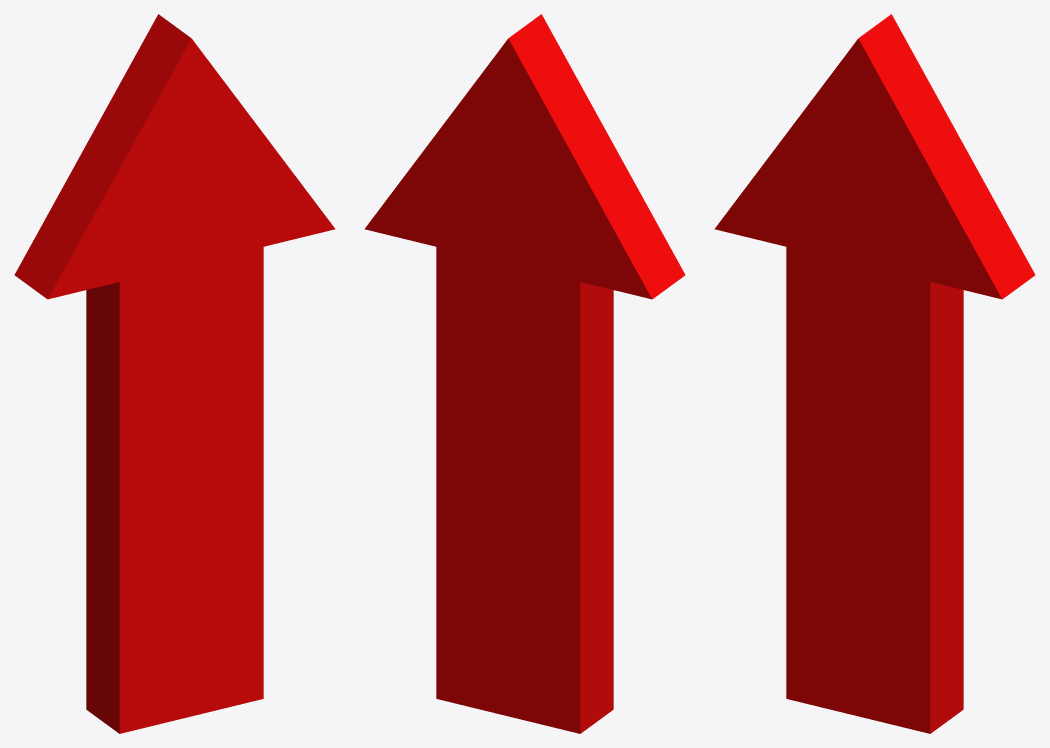
File: arrow.fbx
The picture shows the model from 3 angles, left to right: view 1: azimuth 30°, elevation 25°; view 2: azimuth 150°, elevation 25°; view 3: azimuth 330°, elevation 25°; orthographic projection.
Parts seen in each view (by area): view 1: Group1; view 2: Group1; view 3: Group1.
Boxes of the visible parts, x1,y1,x2,y2 form: Group1: (14, 14, 335, 733); Group1: (364, 14, 685, 733); Group1: (714, 14, 1035, 733).
Size of the model in its own units: 2 by 4.5 by 0.4.
